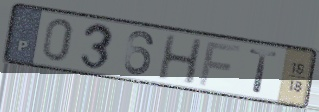0: (41, 17, 76, 65)
3: (78, 20, 119, 73)
6: (122, 29, 155, 77)
F: (196, 40, 244, 88)
H: (155, 33, 204, 87)
T: (247, 47, 280, 96)
